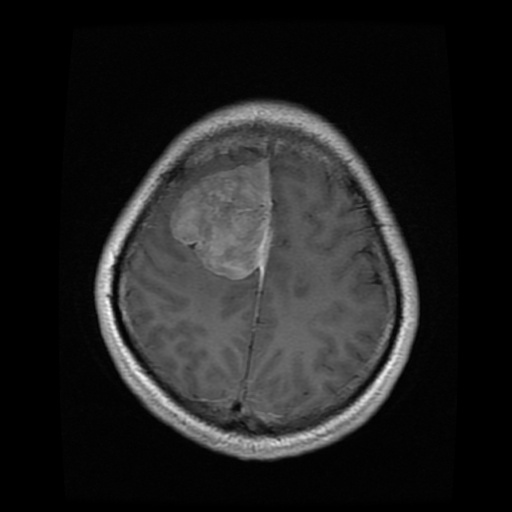meningioma: (172, 158, 270, 278)
